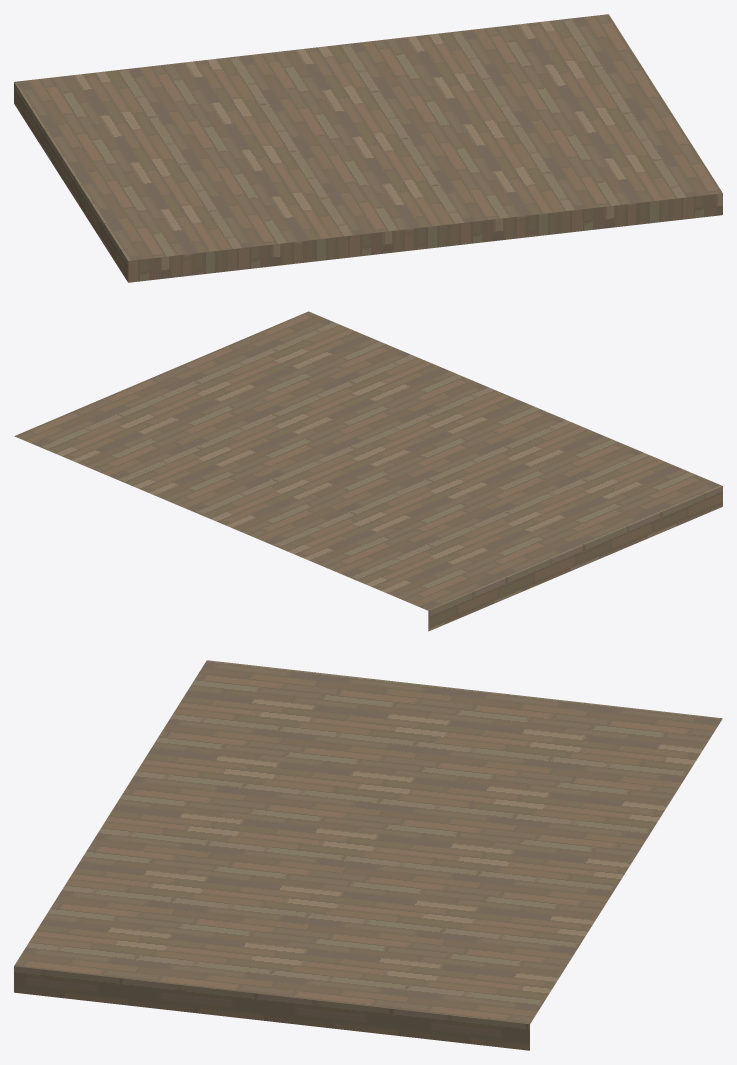
File: kd_stage_1366d7_4_6_bounded.glb
The picture shows the model from 3 angles, top to bottom: view 1: azimuth 30°, elevation 25°; view 2: azimuth 150°, elevation 25°; view 3: azimuth 270°, elevation 25°; orthographic projection. The views are drawn at different scales.
Parts seen in each view (by area): view 1: kd_stage_1366d7_4_6_bounded; view 2: kd_stage_1366d7_4_6_bounded; view 3: kd_stage_1366d7_4_6_bounded.
Part boxes in pixels (bbox=[...]): kd_stage_1366d7_4_6_bounded: bbox=[14, 14, 722, 282]; kd_stage_1366d7_4_6_bounded: bbox=[14, 311, 722, 631]; kd_stage_1366d7_4_6_bounded: bbox=[14, 660, 722, 1050].
Size of the model in its own units: 54.71 by 1.86 by 45.03.
Materials: 1 (1 with a texture image).
